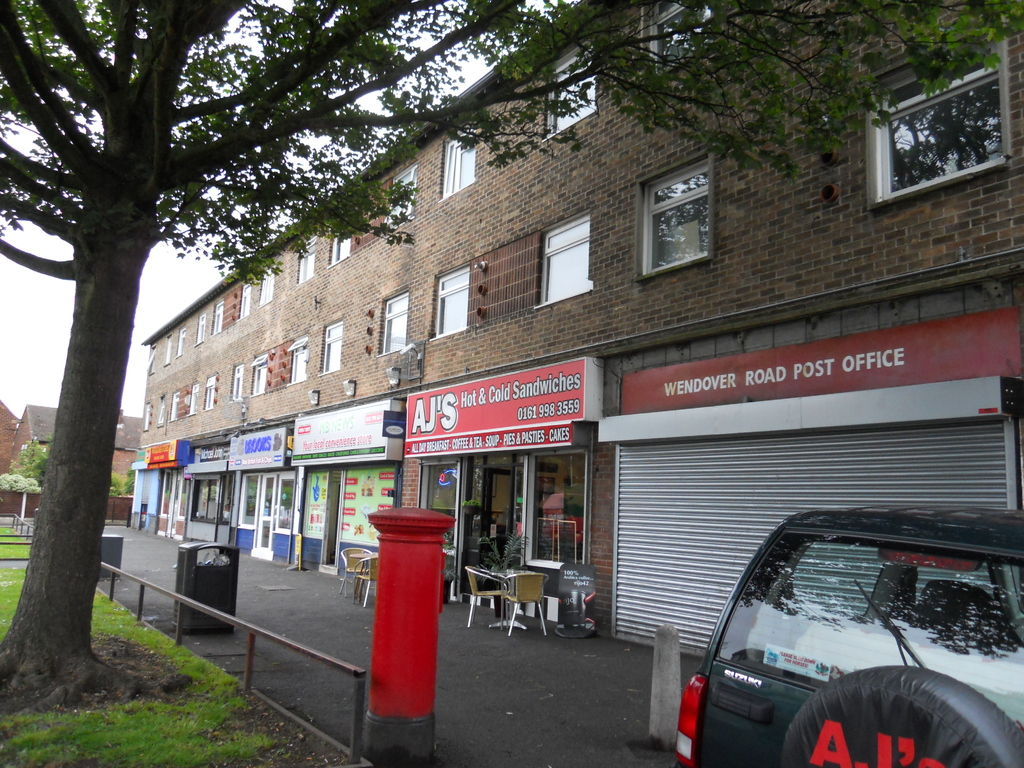Car: (655, 512, 997, 768)
